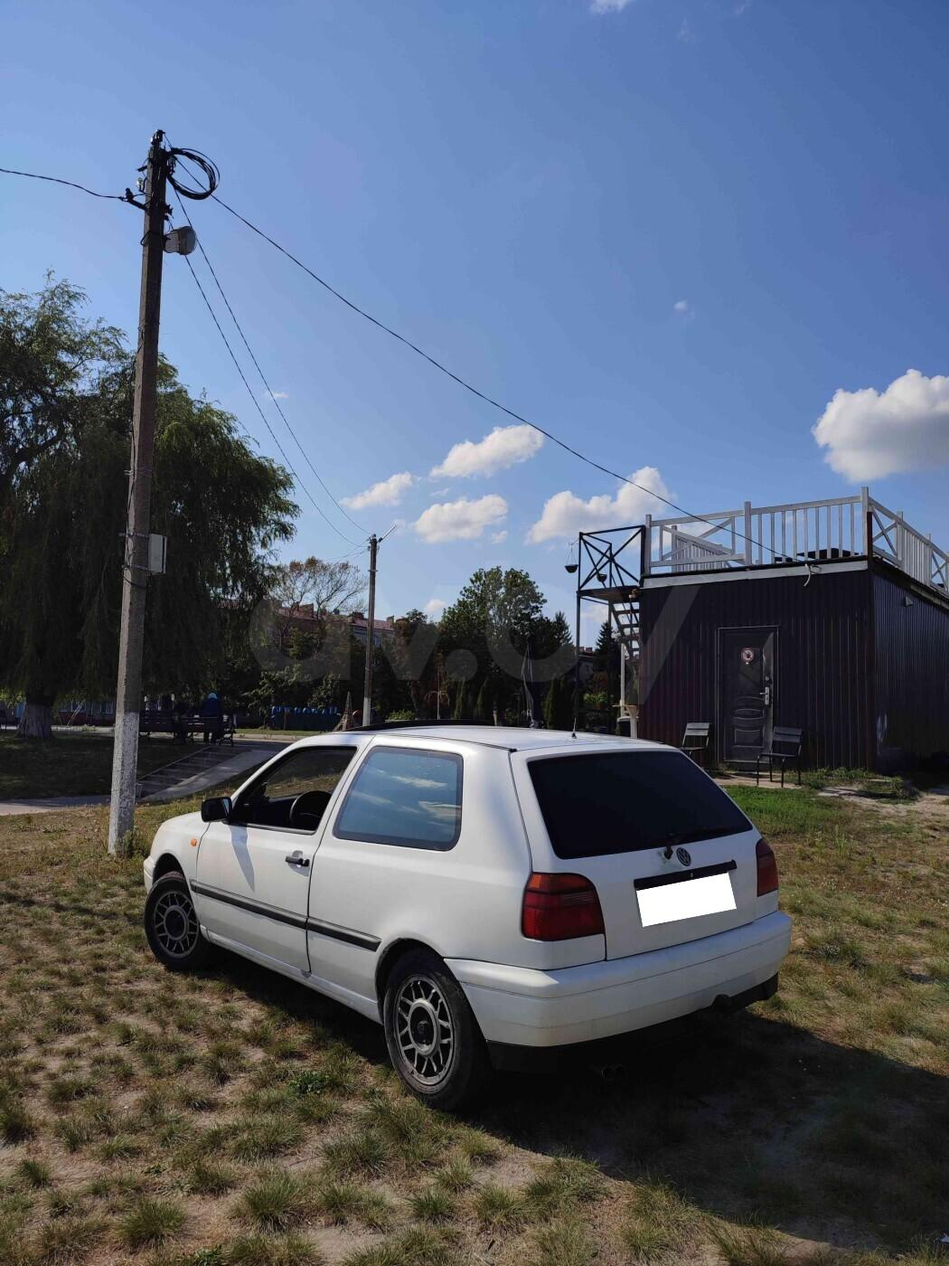Golf_1991-2000: (131, 722, 793, 1094)
